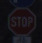stopsign: (7, 7, 37, 36)
